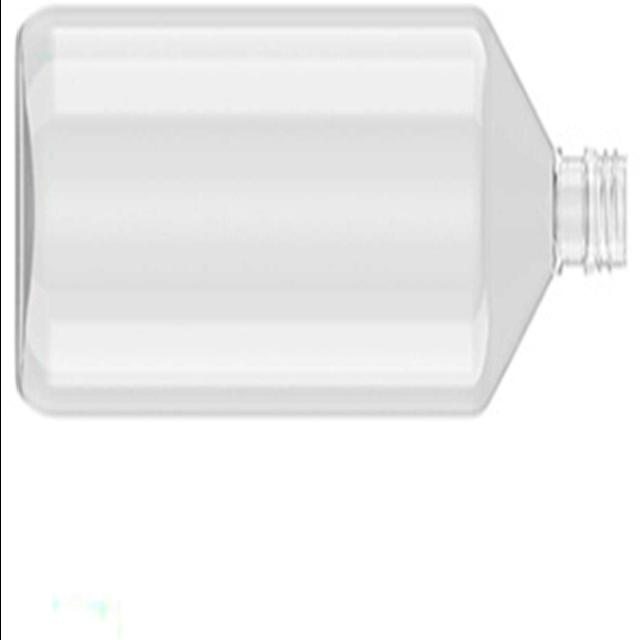bottom: (17, 9, 75, 414)
neck: (485, 30, 625, 376)
